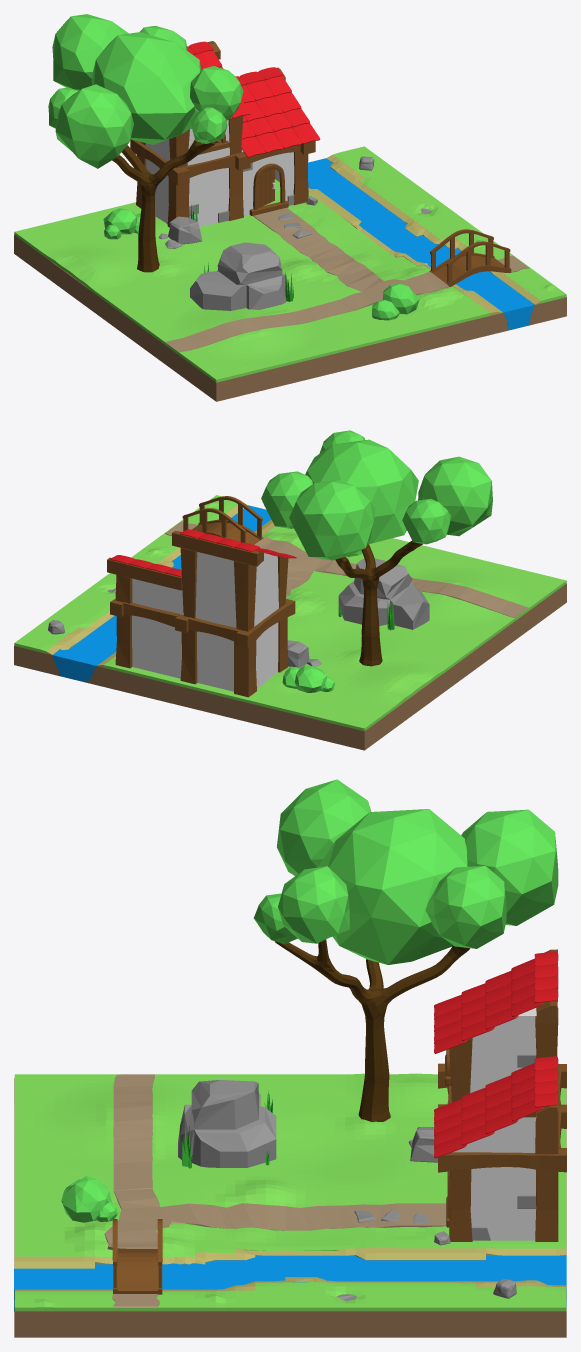
The model's file is texture.glb.
The picture shows the model from 3 angles, top to bottom: view 1: azimuth 30°, elevation 25°; view 2: azimuth 150°, elevation 25°; view 3: azimuth 270°, elevation 25°; orthographic projection. The views are drawn at different scales.
Visible parts, largest first — view 1: green, leaves, undersand, Home, Plane.002, Plane, rock, Roofs_2, sandbank, trunk, Plane.001, Stone_2 (+5 smaller); view 2: green, Home, leaves, undersand, rock, Plane.002, Plane, trunk, Plane.001, sandbank, Roof, bush.003 (+2 smaller); view 3: green, leaves, Home, undersand, Plane.002, Plane, rock, sandbank, Roof, Roofs_2, trunk, Plane.001 (+2 smaller).
Part boxes in pixels (x1=…): green: x1=14, y1=146, x2=566, y2=382; leaves: x1=48, y1=14, x2=243, y2=168; undersand: x1=14, y1=235, x2=566, y2=401; Home: x1=130, y1=41, x2=315, y2=227; Plane.002: x1=165, y1=207, x2=448, y2=352; Plane: x1=308, y1=158, x2=534, y2=330; rock: x1=190, y1=242, x2=286, y2=310; Roofs_2: x1=235, y1=67, x2=320, y2=157; sandbank: x1=308, y1=154, x2=541, y2=315; trunk: x1=112, y1=140, x2=214, y2=272; Plane.001: x1=429, y1=229, x2=511, y2=286; Stone_2: x1=158, y1=216, x2=202, y2=248; green: x1=14, y1=495, x2=566, y2=731; Home: x1=107, y1=531, x2=295, y2=697; leaves: x1=261, y1=430, x2=492, y2=560; undersand: x1=14, y1=583, x2=566, y2=750; rock: x1=338, y1=558, x2=429, y2=629; Plane.002: x1=254, y1=537, x2=528, y2=617; Plane: x1=52, y1=505, x2=271, y2=682; trunk: x1=335, y1=540, x2=422, y2=666; Plane.001: x1=182, y1=496, x2=263, y2=544; sandbank: x1=46, y1=503, x2=274, y2=667; Roof: x1=180, y1=529, x2=296, y2=558; bush.003: x1=294, y1=665, x2=326, y2=692; green: x1=14, y1=1073, x2=566, y2=1311; leaves: x1=253, y1=779, x2=558, y2=964; Home: x1=438, y1=949, x2=566, y2=1241; undersand: x1=14, y1=1078, x2=566, y2=1337; Plane.002: x1=104, y1=1074, x2=446, y2=1249; Plane: x1=14, y1=1256, x2=566, y2=1311; rock: x1=178, y1=1080, x2=276, y2=1167; sandbank: x1=14, y1=1248, x2=566, y2=1291; Roof: x1=434, y1=951, x2=558, y2=1053; Roofs_2: x1=434, y1=1056, x2=558, y2=1158; trunk: x1=275, y1=939, x2=469, y2=1121; Plane.001: x1=112, y1=1219, x2=162, y2=1294.
Size of the model in its own units: 4.47 by 2.67 by 4.01.
